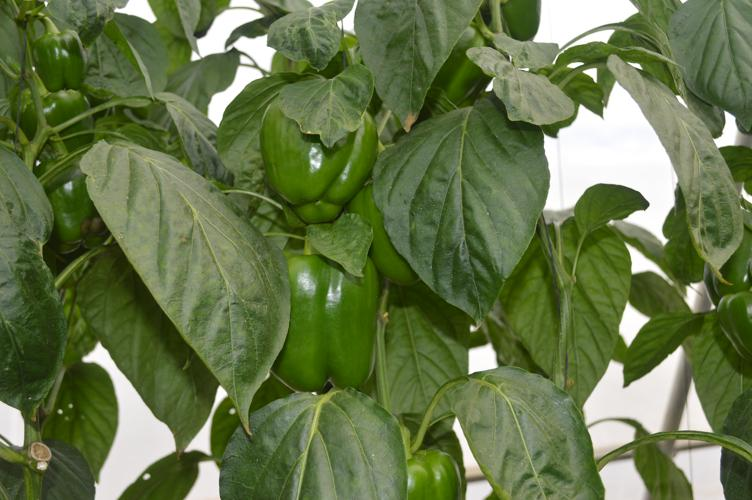BellPepper: (270, 251, 378, 394), (259, 97, 375, 226), (354, 189, 422, 282), (35, 158, 88, 257), (13, 91, 91, 150), (430, 27, 480, 110), (397, 447, 462, 500), (33, 32, 88, 90)
